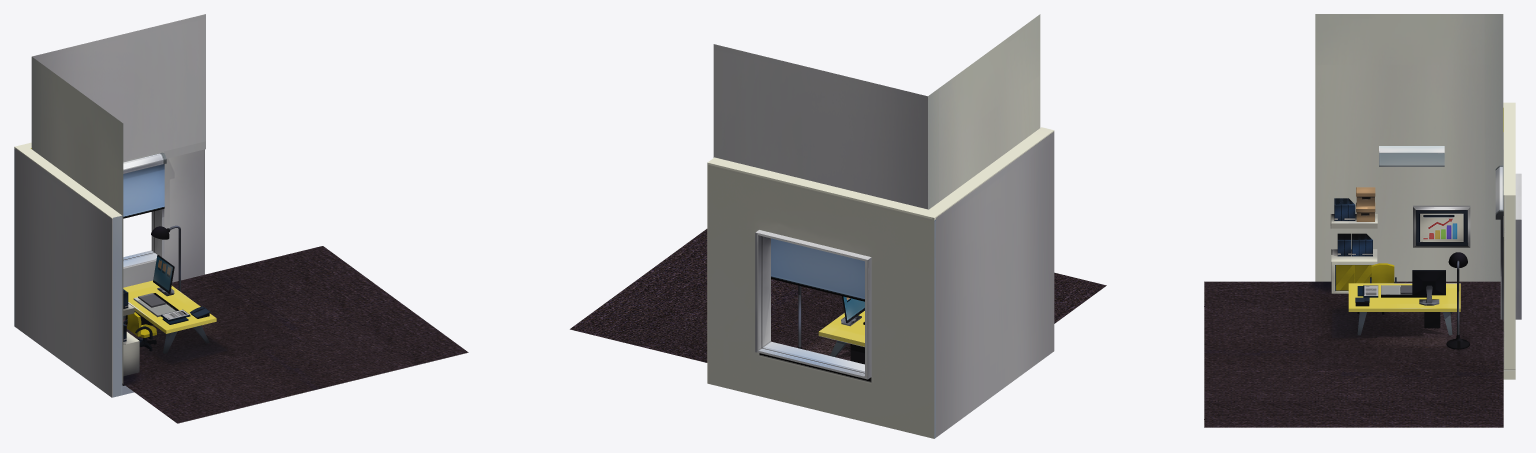
The model's file is Tx_Interior_Work_Office_20170713.fbx.
3 renders of one model, left to right at view 1: azimuth 30°, elevation 25°; view 2: azimuth 150°, elevation 25°; view 3: azimuth 270°, elevation 25°, orthographic. The views are drawn at different scales.
Parts seen in each view (by area): view 1: polySurface14, group2; view 2: group2, polySurface14; view 3: polySurface14, group2.
Boxes of the visible parts, x1,y1,x2,y2 form: polySurface14: [31, 14, 468, 423]; group2: [14, 142, 216, 397]; group2: [707, 127, 1054, 438]; polySurface14: [570, 14, 1106, 362]; polySurface14: [1204, 14, 1503, 427]; group2: [1330, 102, 1521, 379].
Size of the model in its own units: 39.61 by 31.57 by 37.
